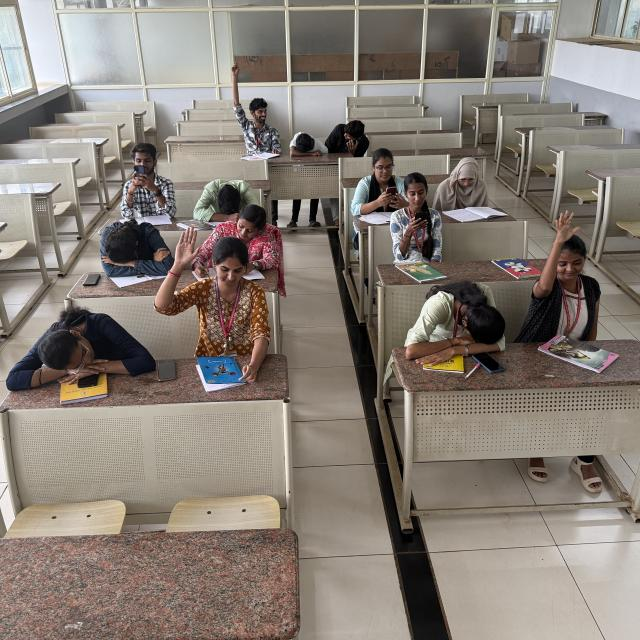Hand Rising: (158, 219, 251, 357), (526, 206, 601, 338), (226, 59, 282, 157)
Reading: (434, 156, 495, 218)
Sleeping: (0, 300, 160, 398), (401, 276, 509, 360), (94, 216, 181, 281), (192, 176, 261, 223), (285, 129, 332, 158)
Using Phone: (114, 141, 180, 219), (392, 171, 443, 259), (355, 148, 410, 215), (325, 119, 373, 156)
